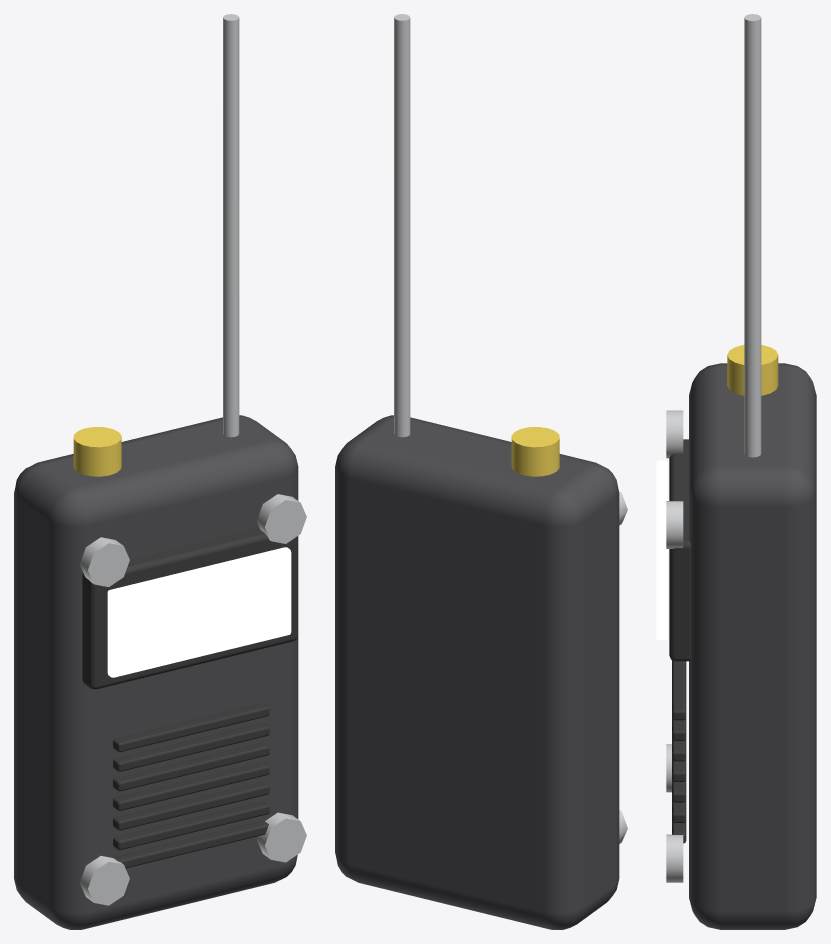
File: paranormal-investigation-house-spirit-box-f1191904__26764.glb
3 views of the same model, side by side, from view 1: azimuth 30°, elevation 25°; view 2: azimuth 150°, elevation 25°; view 3: azimuth 270°, elevation 25° (orthographic). The views are drawn at different scales.
Visible parts, largest first — view 1: spirit-box; view 2: spirit-box; view 3: spirit-box.
Boxes of the visible parts, box(x1,y1,x2,y2) form: spirit-box: box(14, 14, 306, 929); spirit-box: box(335, 14, 627, 929); spirit-box: box(656, 14, 816, 929).
Bounding box in the file's own units: 0.105 × 0.35 × 0.0565.
